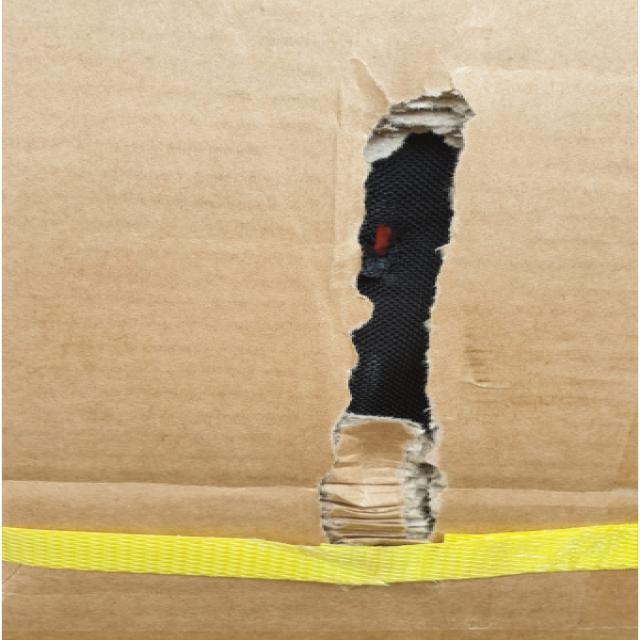damaged: (288, 91, 508, 530)
